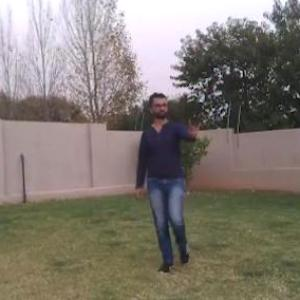takeoff-hand: (185, 115, 205, 144)
